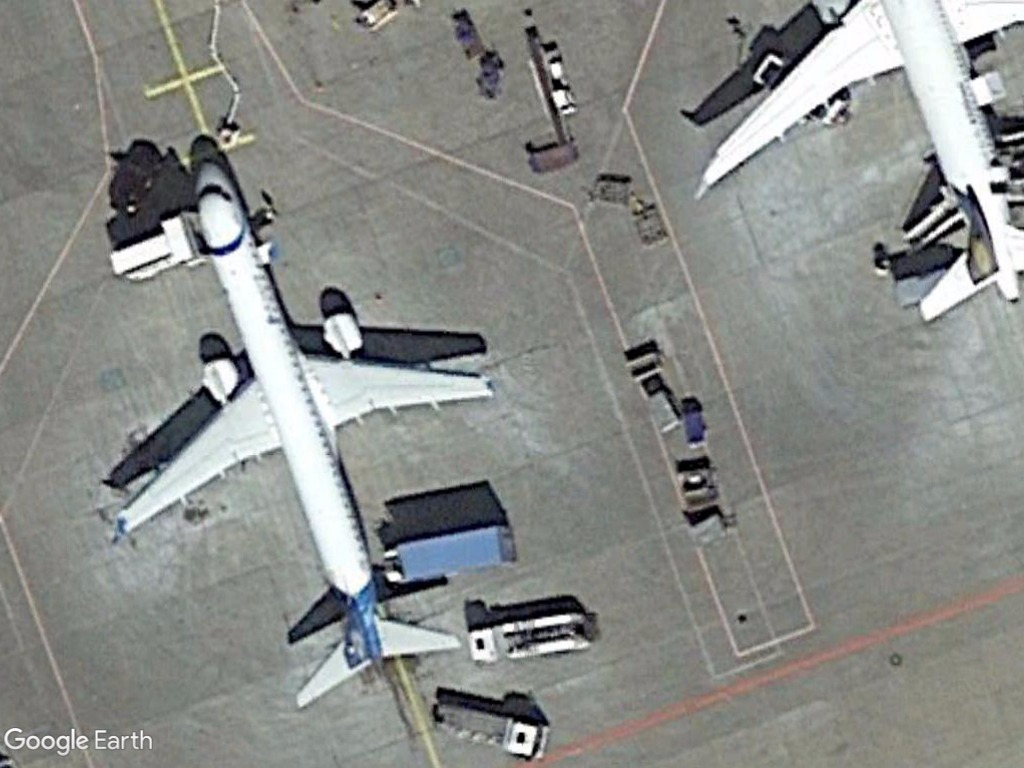airliner: (104, 141, 499, 720)
